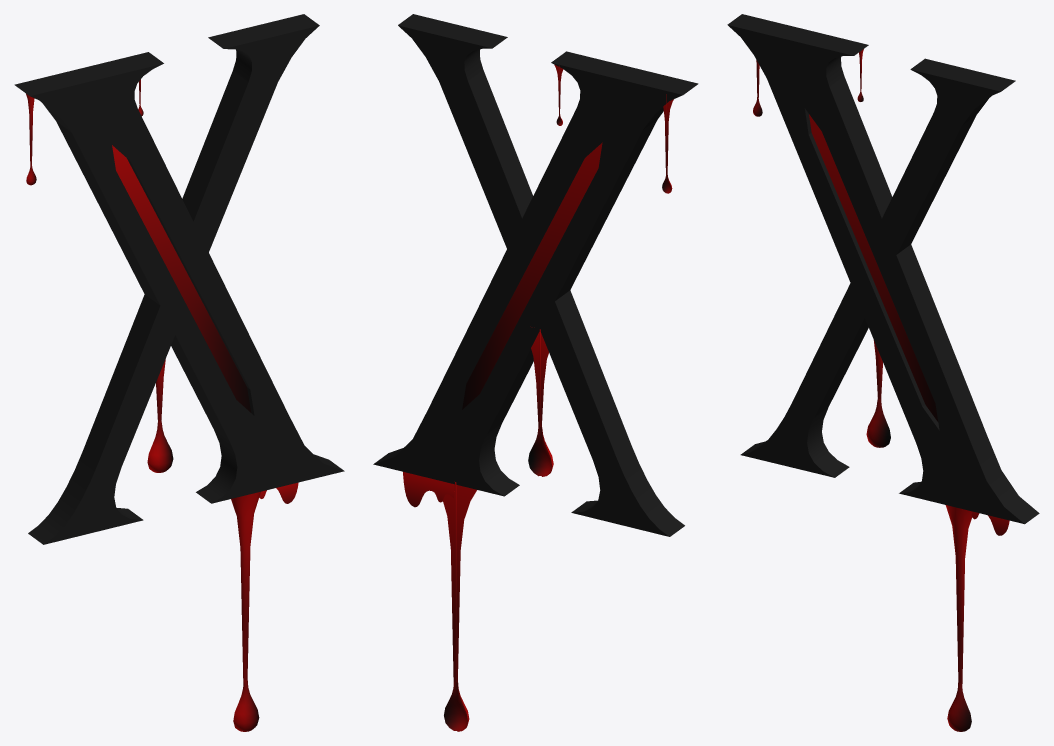
3 renders of one model, left to right at view 1: azimuth 30°, elevation 25°; view 2: azimuth 150°, elevation 25°; view 3: azimuth 330°, elevation 25°, orthographic. The views are drawn at different scales.
Parts seen in each view (by area): view 1: X, X_Element, Blood_378, Blood_362; view 2: X, X_Element, Blood_378, Blood_362, Blood_366; view 3: X, X_Element, Blood_378, Blood_362.
Part boxes in pixels (box(x1,y1,x2,y2)): X: box(14, 14, 344, 544); X_Element: box(112, 145, 251, 412); Blood_378: box(231, 491, 260, 731); Blood_362: box(147, 359, 173, 472); X: box(373, 14, 698, 536); X_Element: box(462, 142, 602, 409); Blood_378: box(442, 482, 476, 731); Blood_362: box(528, 329, 553, 476); Blood_366: box(403, 472, 454, 507); X: box(727, 14, 1039, 524); X_Element: box(809, 114, 938, 421); Blood_378: box(945, 505, 972, 731); Blood_362: box(866, 340, 890, 447).
Bounding box in the file's own units: 57.84 × 123 × 5.05.
2 materials, 1 textured.
